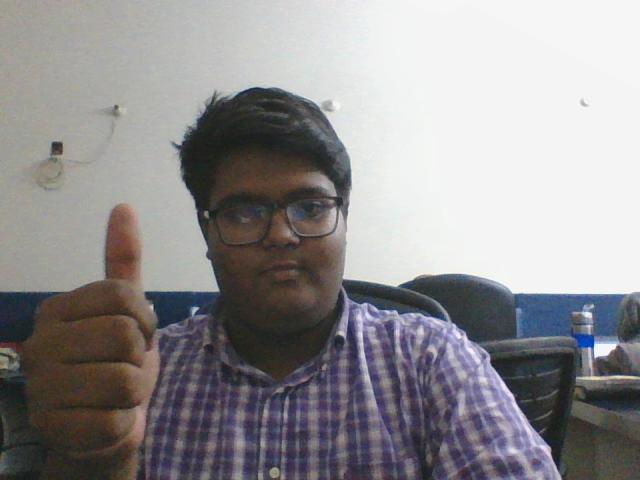thumbs-up: (36, 193, 165, 454)
